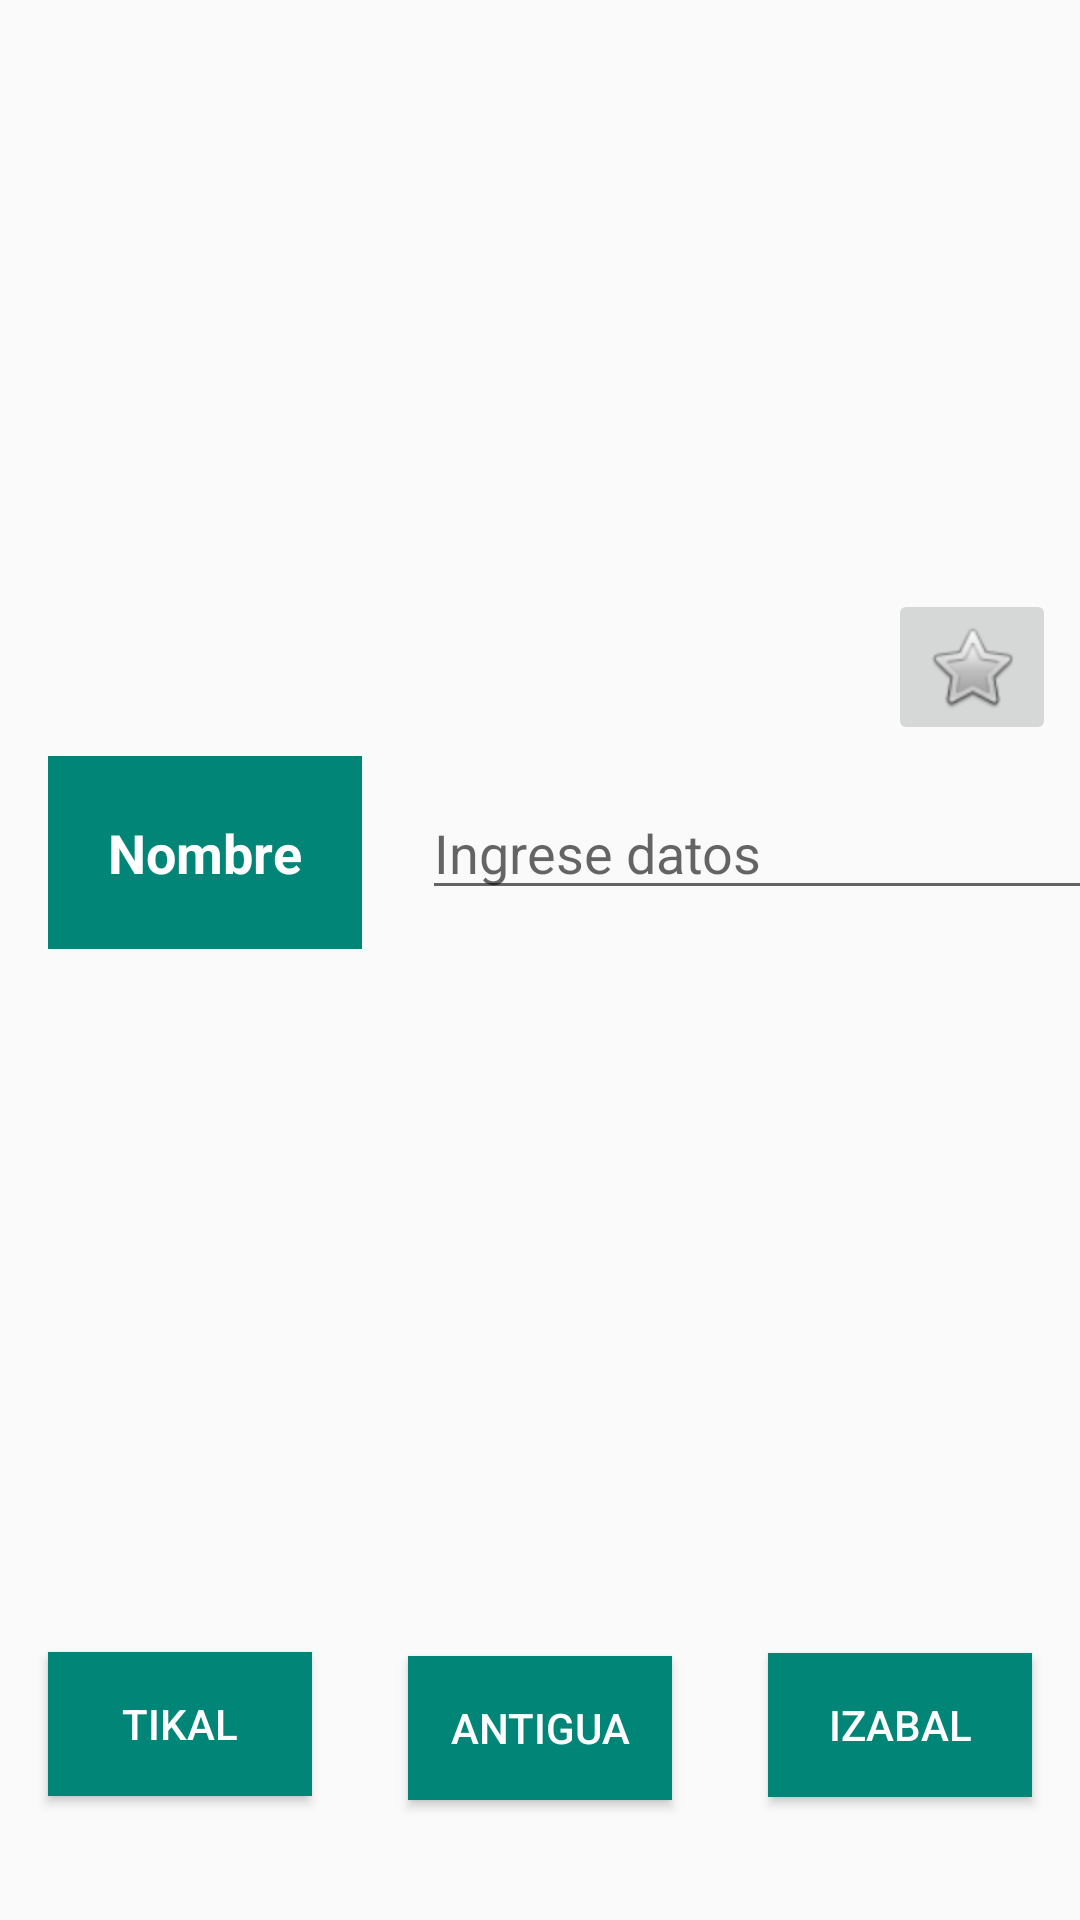

Where to tap for icons on this 1080x1920 app screen, as (x=x, y=y):
star: (x=972, y=667)
